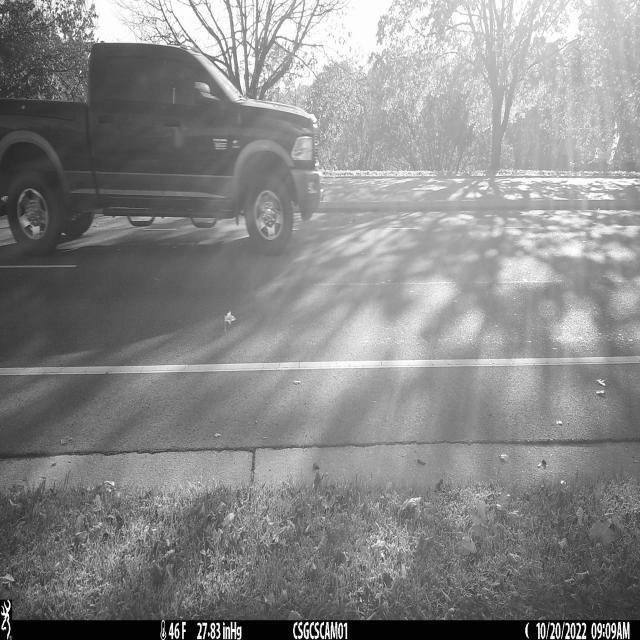Pickup: (0, 43, 323, 257)
